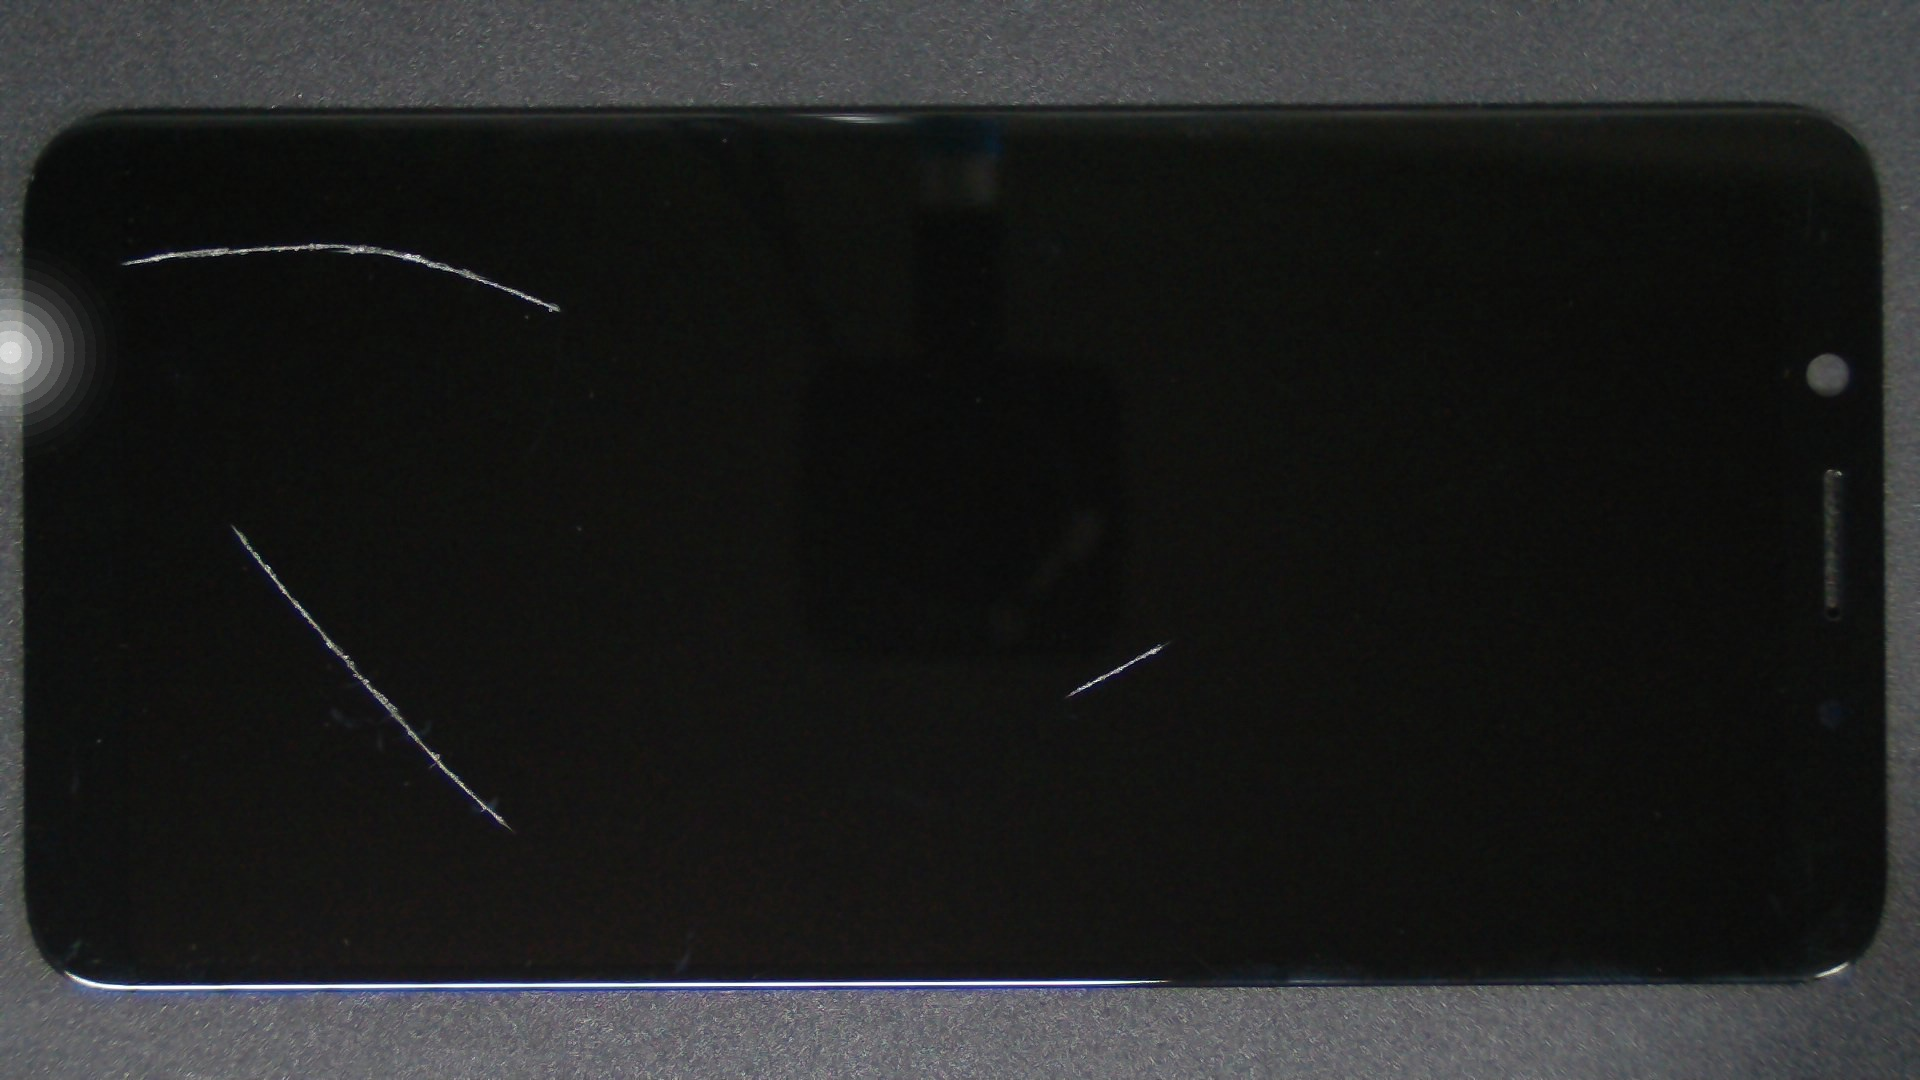oil: (585, 320, 1753, 963), (116, 261, 347, 783), (156, 120, 464, 364)
